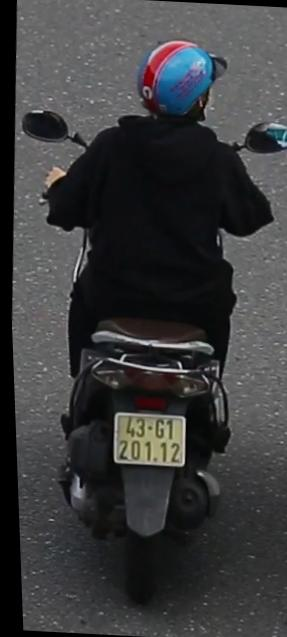LP: (105, 404, 188, 470)
helmet: (133, 33, 220, 134)
